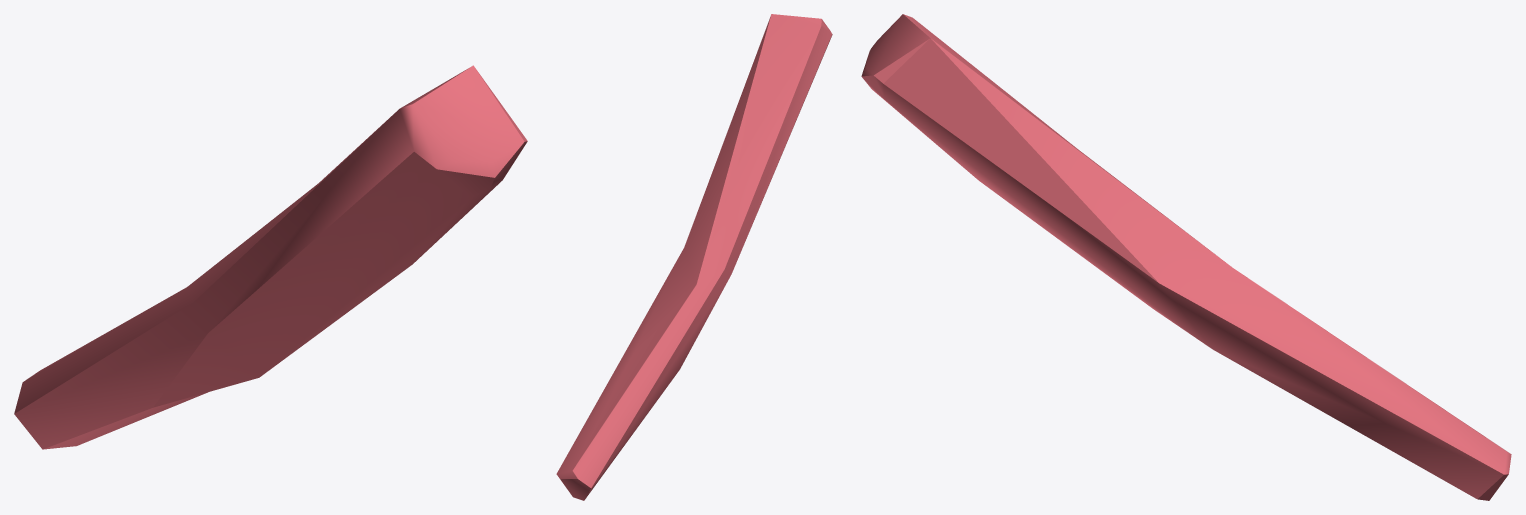
File: fma8632_fj6080.glb
3 renders of one model, left to right at view 1: azimuth 30°, elevation 25°; view 2: azimuth 150°, elevation 25°; view 3: azimuth 270°, elevation 25°, orthographic. The views are drawn at different scales.
Visible parts, largest first — view 1: FMA8632_FJ6080; view 2: FMA8632_FJ6080; view 3: FMA8632_FJ6080.
Part boxes in pixels (box(x1,y1,x2,y2)): FMA8632_FJ6080: box(14, 65, 527, 449); FMA8632_FJ6080: box(556, 14, 832, 500); FMA8632_FJ6080: box(861, 14, 1511, 500).
Bounding box in the file's own units: 0.00187 × 0.0106 × 0.0134.
